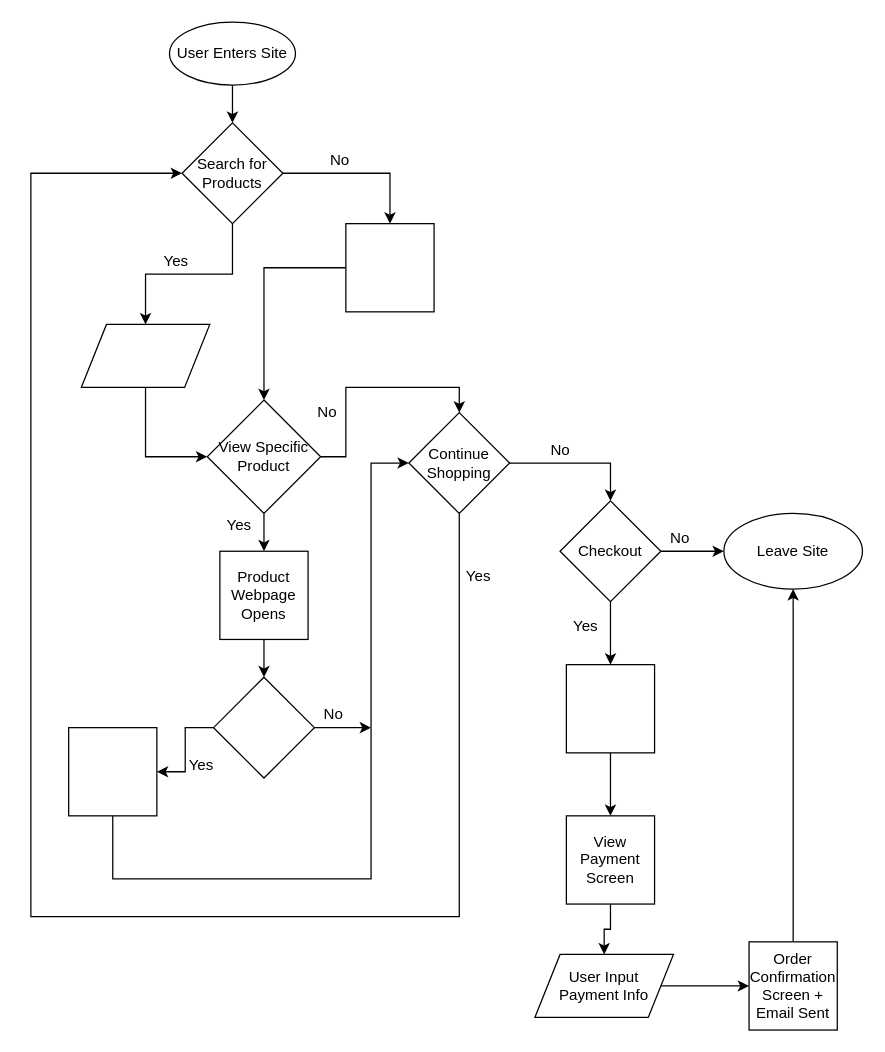
The diagram is 885 pixels wide and 1052 high, and some of its shapes have lost their labels. The shapes that lost their labels are listed below. From the top down, each one's box as (x1, y1, x2, y2) in pixels, then its label:
(345, 222, 434, 312): Explore Products on Home Page
(80, 323, 210, 387): User Inputer for Search
(212, 676, 314, 778): Add to Cart
(565, 663, 655, 753): View Cart Screen
(67, 726, 157, 816): Added to Cart Confirmation
